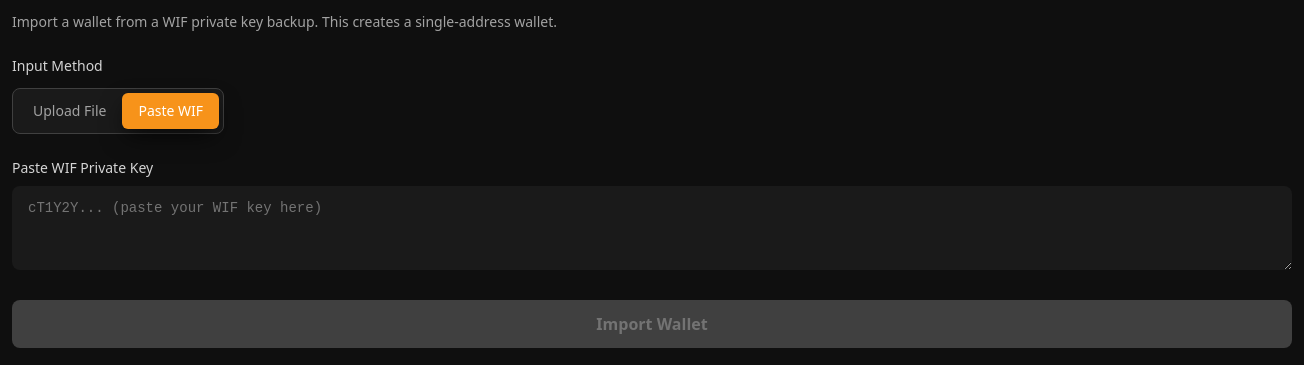
Test: ImportPrivateKey Component › Input Method Selection › switches back to paste method when clicking Paste WIF
// Switch to file upload
Click the button "Upload File": x=70, y=111 [17,93,122,129]
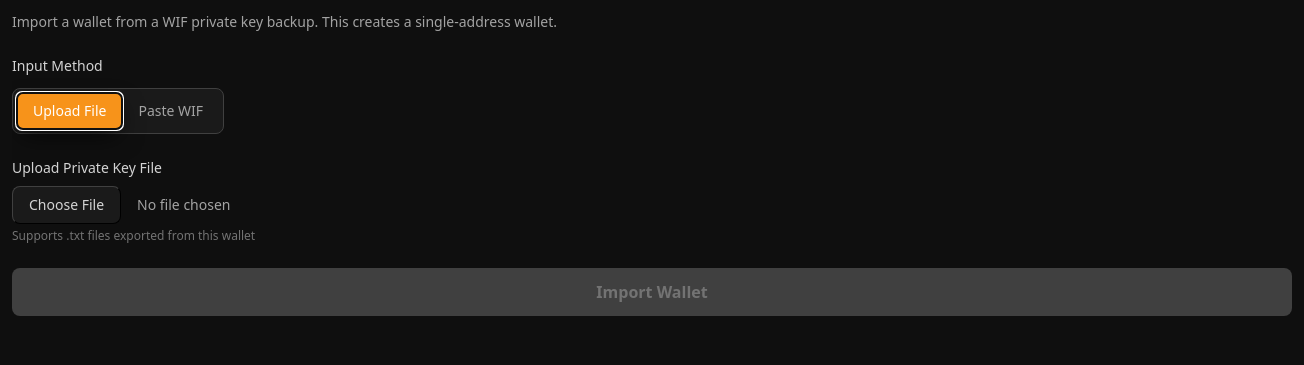
// Switch back to paste
Click the button "Paste WIF": x=171, y=111 [122,93,219,129]
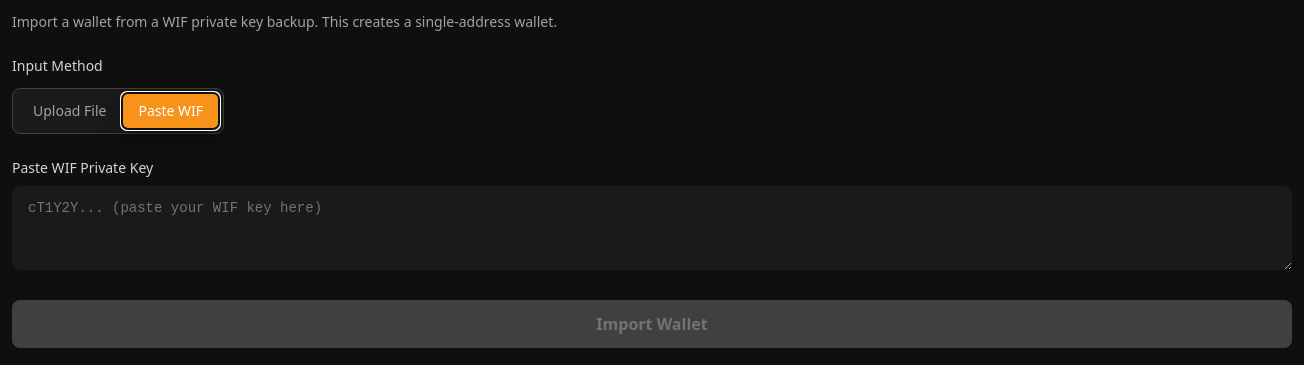
Expected: the text box with placeholder "cT1Y2Y... (paste your WIF key here)" is shown, [12,186,1292,270]
